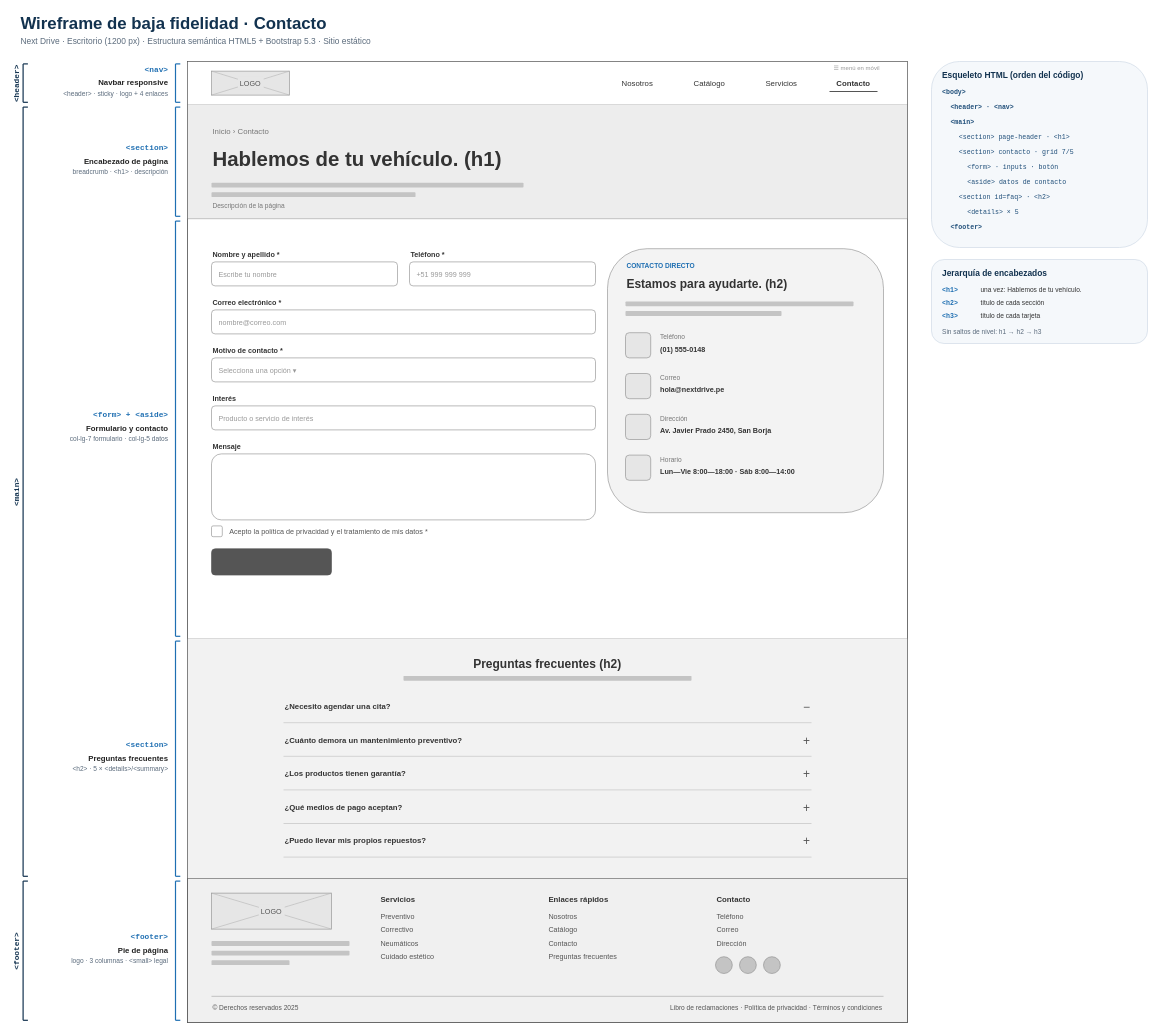
This 1157x1033 diagram has some shape labels left out. Each missing label, with the centre of its shape:
Cuéntanos cómo podemos ayudarte: point (403, 486)
Enviar consulta: point (271, 561)
